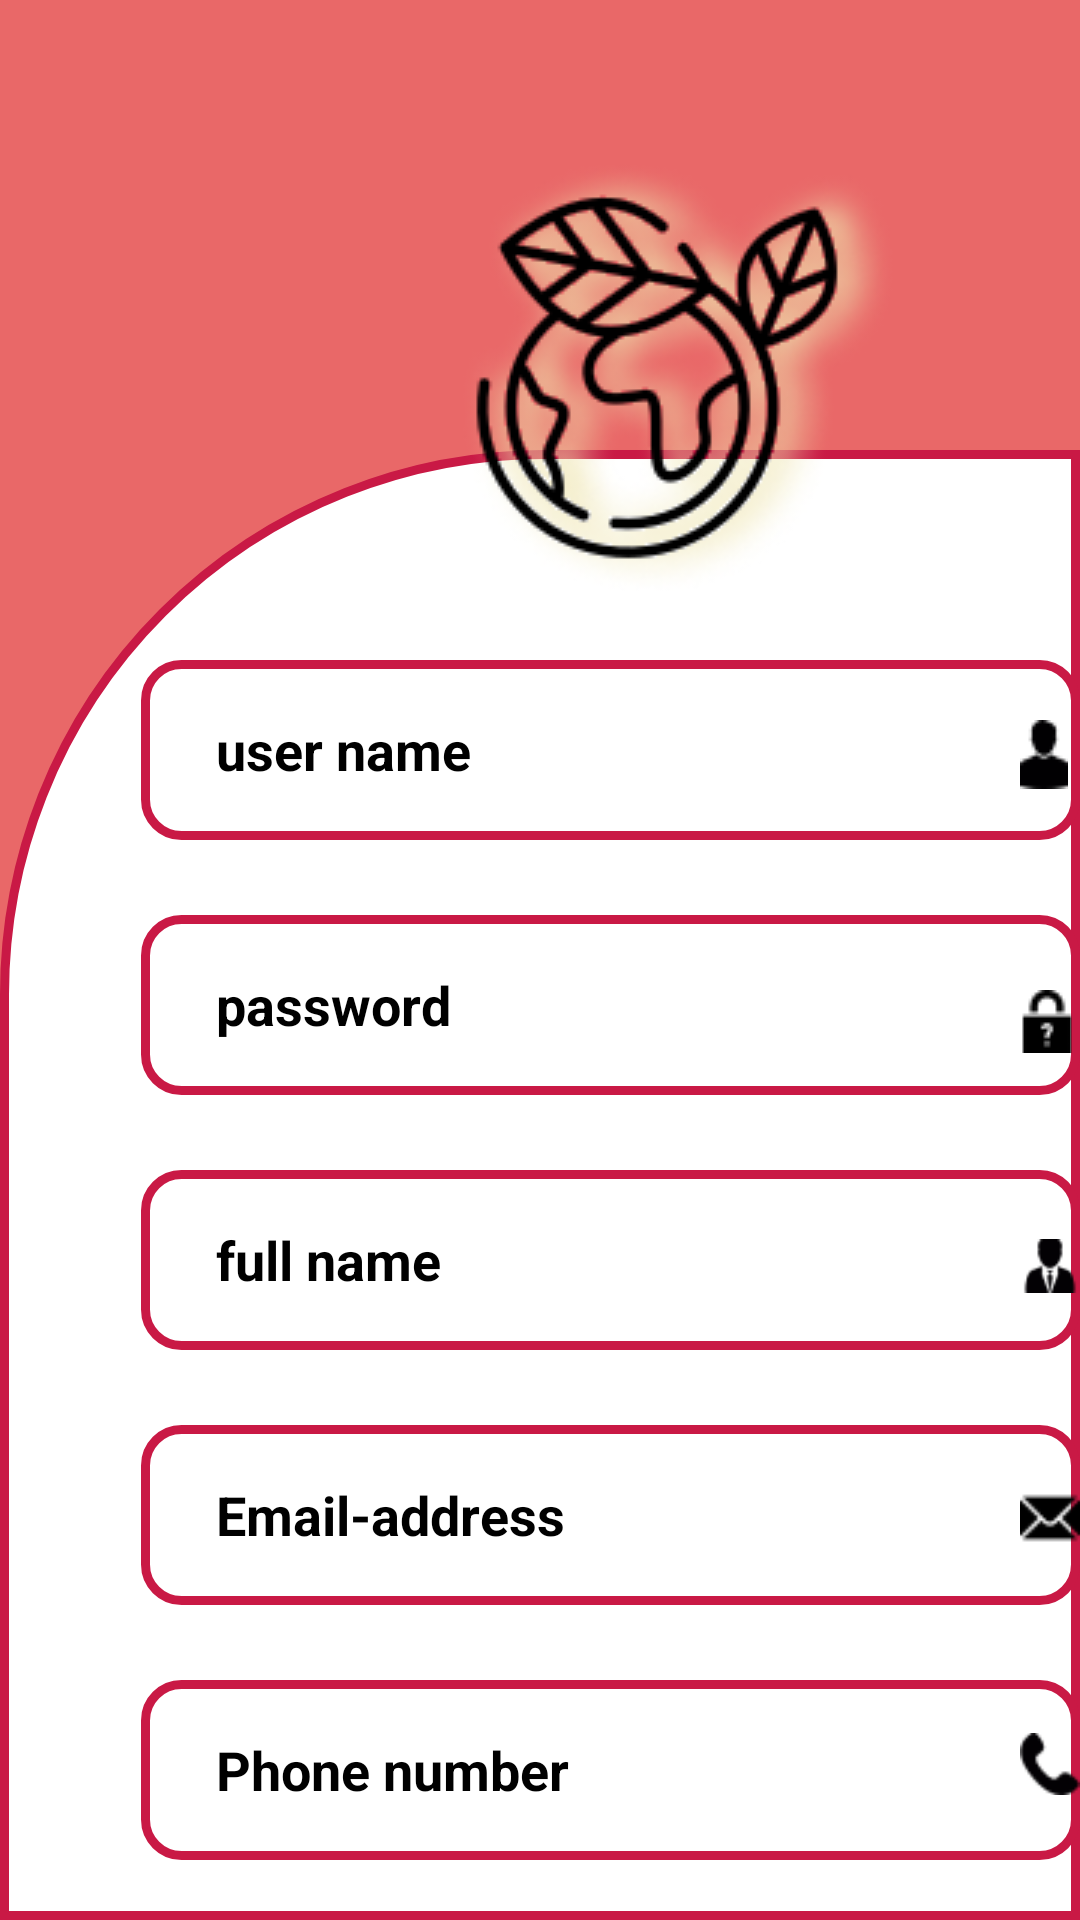

Point at icon controls on the screen. Image size 1080w x 1920h, points as point (x, y).
pas: point (1048, 1021)
use: point (1044, 754)
